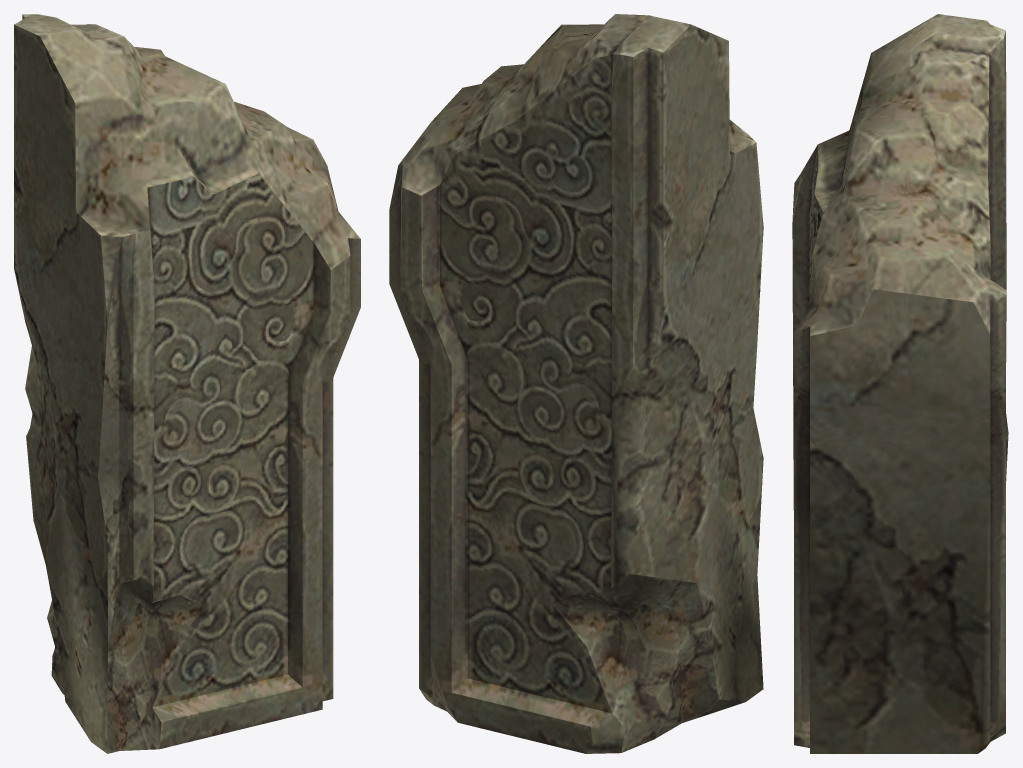
The model's file is Scene_Build_TaZiShaMo_PoSunShiZhu_1.FBX.
3 renders of one model, left to right at view 1: azimuth 30°, elevation 25°; view 2: azimuth 150°, elevation 25°; view 3: azimuth 270°, elevation 25°, orthographic. The views are drawn at different scales.
Parts seen in each view (by area): view 1: Scene_Build_TaZiShaMo_PoSunShiZhu_1; view 2: Scene_Build_TaZiShaMo_PoSunShiZhu_1; view 3: Scene_Build_TaZiShaMo_PoSunShiZhu_1.
Boxes of the visible parts, <box> form: Scene_Build_TaZiShaMo_PoSunShiZhu_1: <box>14,14,360,753</box>; Scene_Build_TaZiShaMo_PoSunShiZhu_1: <box>389,14,763,753</box>; Scene_Build_TaZiShaMo_PoSunShiZhu_1: <box>792,14,1008,753</box>.
Bounding box in the file's own units: 229 × 575 × 177.
